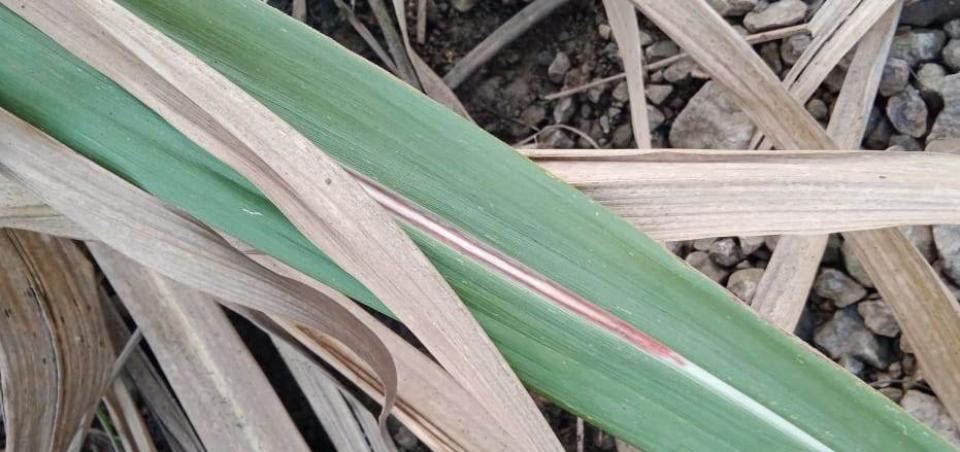RedRot: (344, 165, 694, 374)
